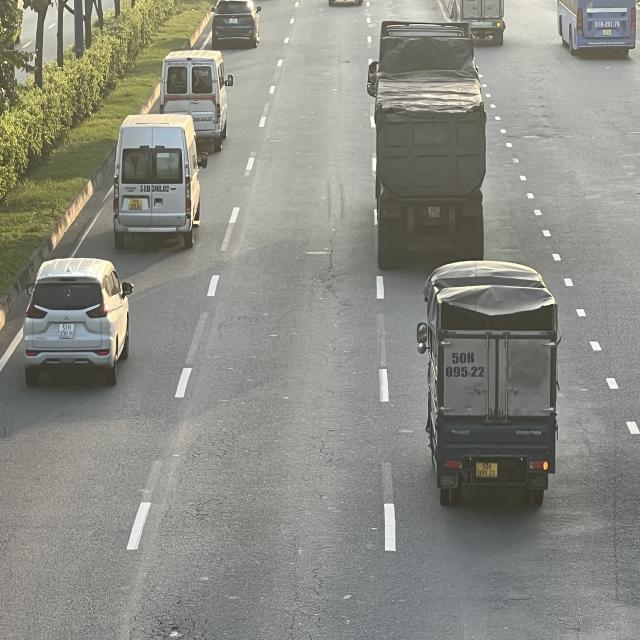car: (24, 255, 132, 378), (210, 0, 258, 47)
coach: (553, 0, 638, 56)
container: (368, 22, 489, 276)
truck: (417, 264, 558, 511)
van: (112, 117, 204, 249), (162, 49, 235, 150)
